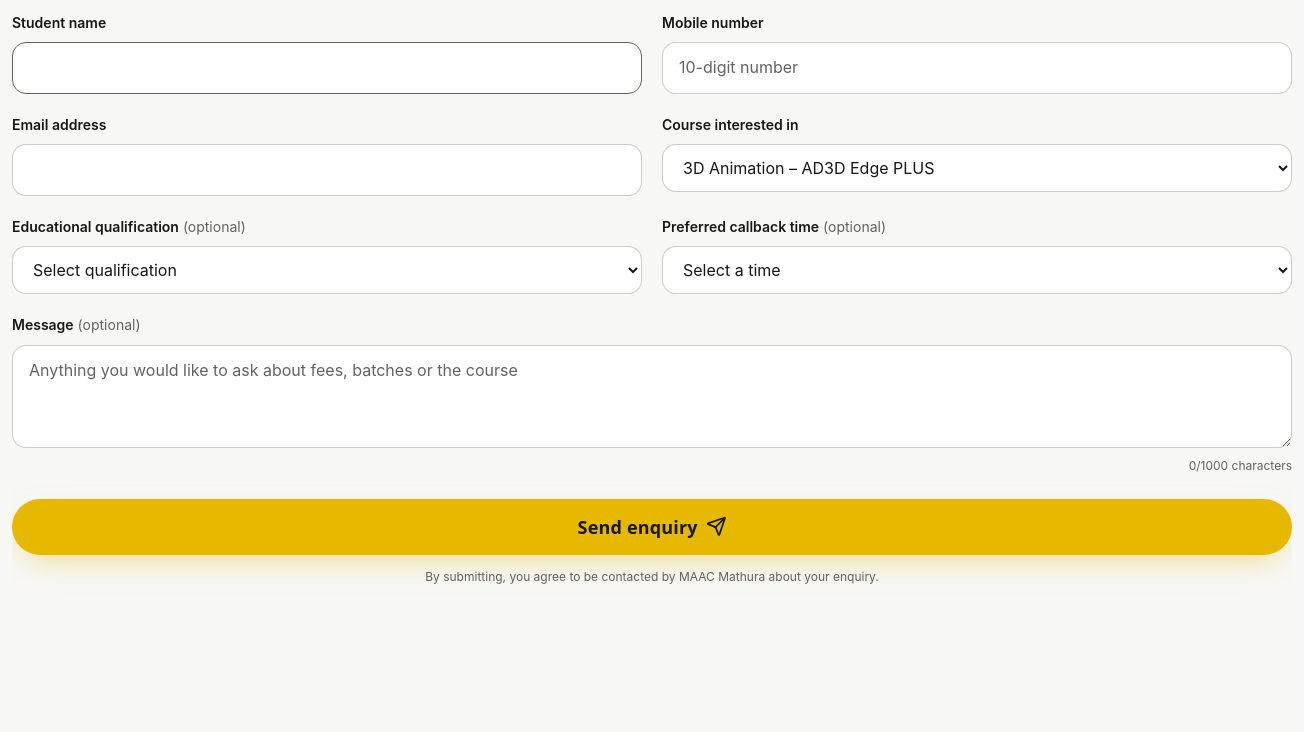
Scenario: shows inline errors and does not submit missing required fields
Click the button "Send enquiry".
click(652, 527)  # box [12,499,1292,555]
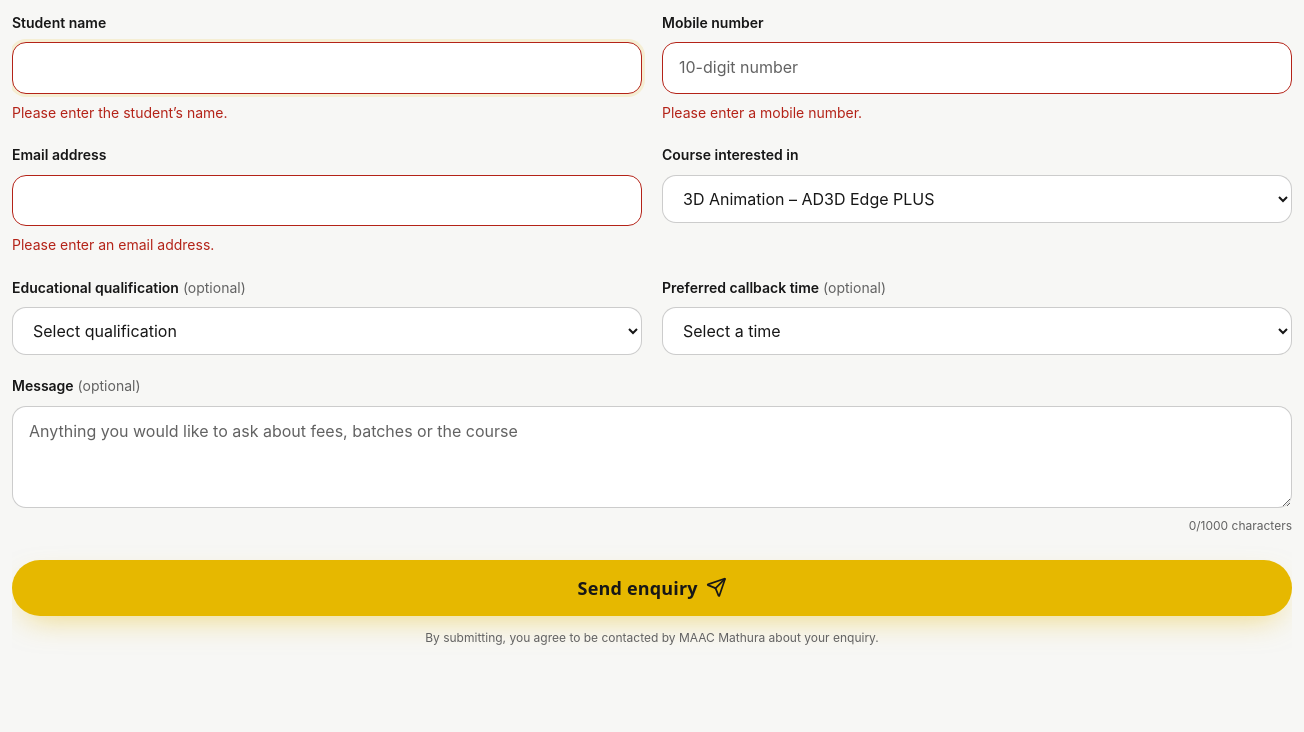
Result: the text "Please enter the student’s name." is shown at [12,104,228,121]
Result: the text "Please enter a mobile number." is shown at [662,104,862,121]
Result: the text "Please enter an email address." is shown at [12,236,214,253]
